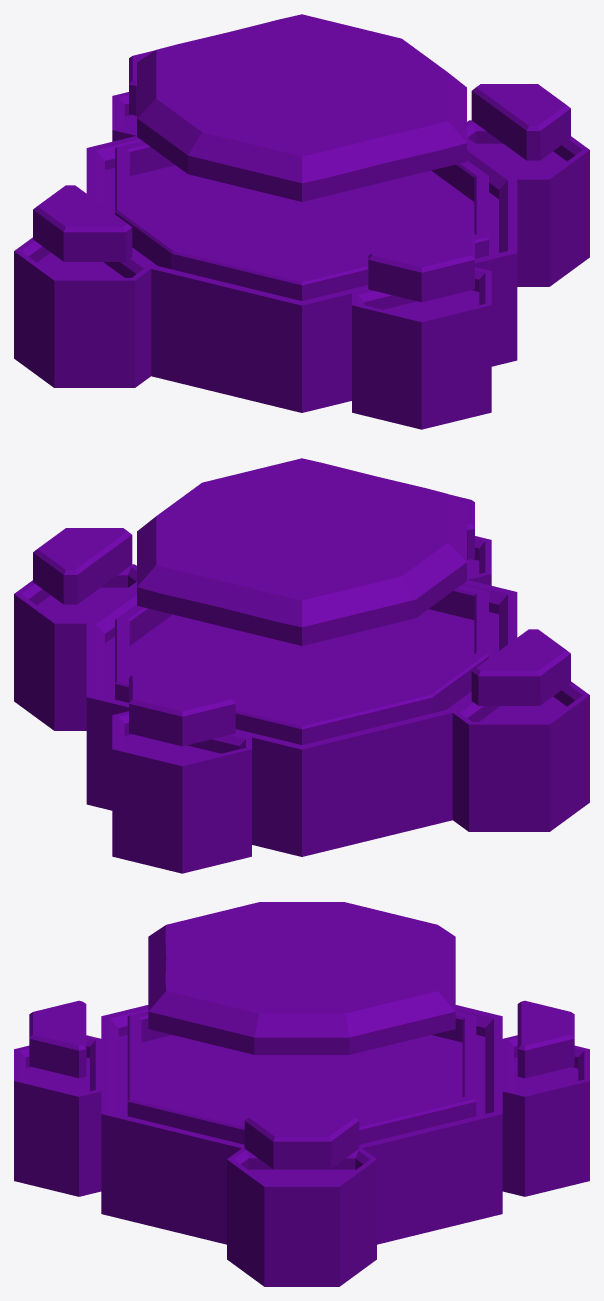
Rendered from JumpPad2.fbx.
The picture shows the model from 3 angles, top to bottom: view 1: azimuth 30°, elevation 25°; view 2: azimuth 150°, elevation 25°; view 3: azimuth 270°, elevation 25°; orthographic projection. The views are drawn at different scales.
Parts seen in each view (by area): view 1: Shell, Jump_Pad, Inner_Small_Panels; view 2: Shell, Jump_Pad, Inner_Small_Panels; view 3: Shell, Jump_Pad, Inner_Small_Panels.
Part boxes in pixels (x1,y1,x2,y2): Shell: (14, 92, 589, 429); Jump_Pad: (137, 14, 466, 201); Inner_Small_Panels: (33, 50, 570, 302); Shell: (14, 536, 589, 873); Jump_Pad: (137, 458, 466, 645); Inner_Small_Panels: (33, 494, 570, 746); Shell: (14, 1005, 589, 1286); Jump_Pad: (148, 902, 455, 1054); Inner_Small_Panels: (29, 1000, 574, 1169).
Size of the model in its own units: 1095 by 435 by 1095.
